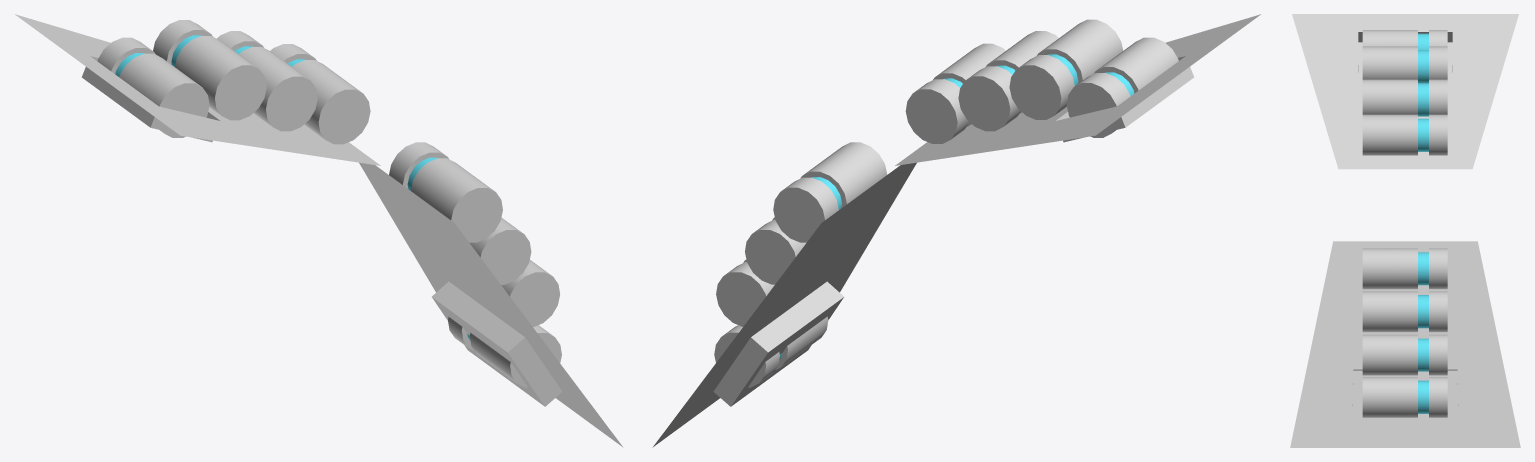
The model's file is Mod_Pauldron_L_Queen1.FBX.
The picture shows the model from 3 angles, left to right: view 1: azimuth 30°, elevation 25°; view 2: azimuth 150°, elevation 25°; view 3: azimuth 270°, elevation 25°; orthographic projection. The views are drawn at different scales.
Parts seen in each view (by area): view 1: Mod_Pauldron_L_Queen1; view 2: Mod_Pauldron_L_Queen1; view 3: Mod_Pauldron_L_Queen1.
Part boxes in pixels (x1,y1,x2,y2): Mod_Pauldron_L_Queen1: (15,14,623,447); Mod_Pauldron_L_Queen1: (652,14,1260,447); Mod_Pauldron_L_Queen1: (1290,14,1520,447).
Size of the model in its own units: 218 by 200 by 144.
